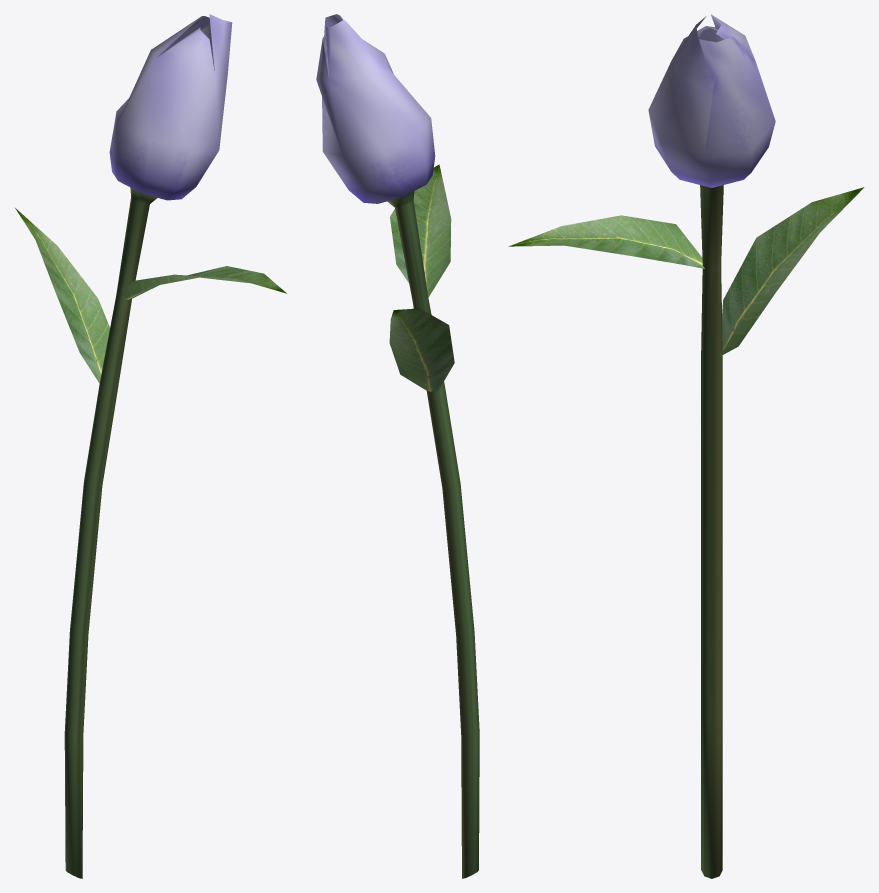
File: flower_A_c02.fbx
3 views of the same model, side by side, from view 1: azimuth 30°, elevation 25°; view 2: azimuth 150°, elevation 25°; view 3: azimuth 270°, elevation 25° (orthographic). The views are drawn at different scales.
Parts seen in each view (by area): view 1: flowerA_c2; view 2: flowerA_c2; view 3: flowerA_c2.
Part boxes in pixels (x1,y1,x2,y2): flowerA_c2: [15, 14, 286, 878]; flowerA_c2: [316, 14, 479, 878]; flowerA_c2: [508, 14, 864, 878].
Bounding box in the file's own units: 6.24 × 30.99 × 10.75.
1 material, 1 textured.
